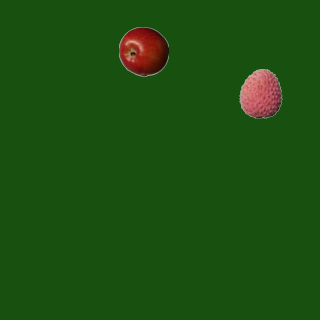Apple Braeburn: (118, 26, 168, 76)
Lychee: (235, 68, 285, 118)
